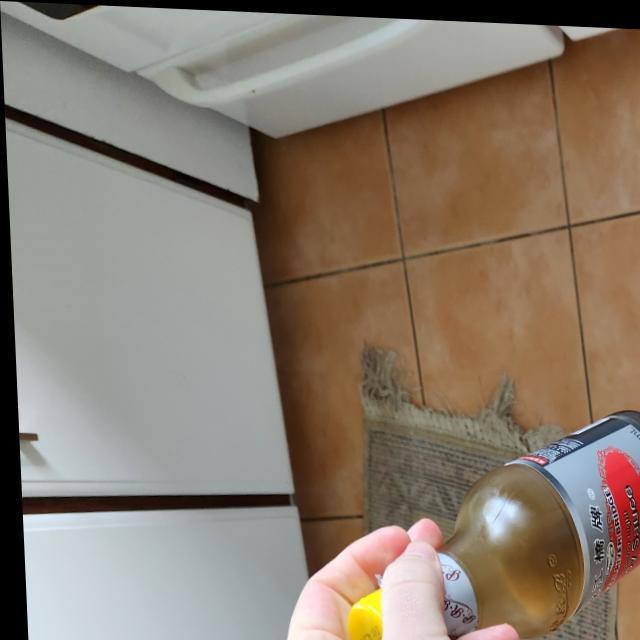soy sauce: (328, 391, 640, 640)
